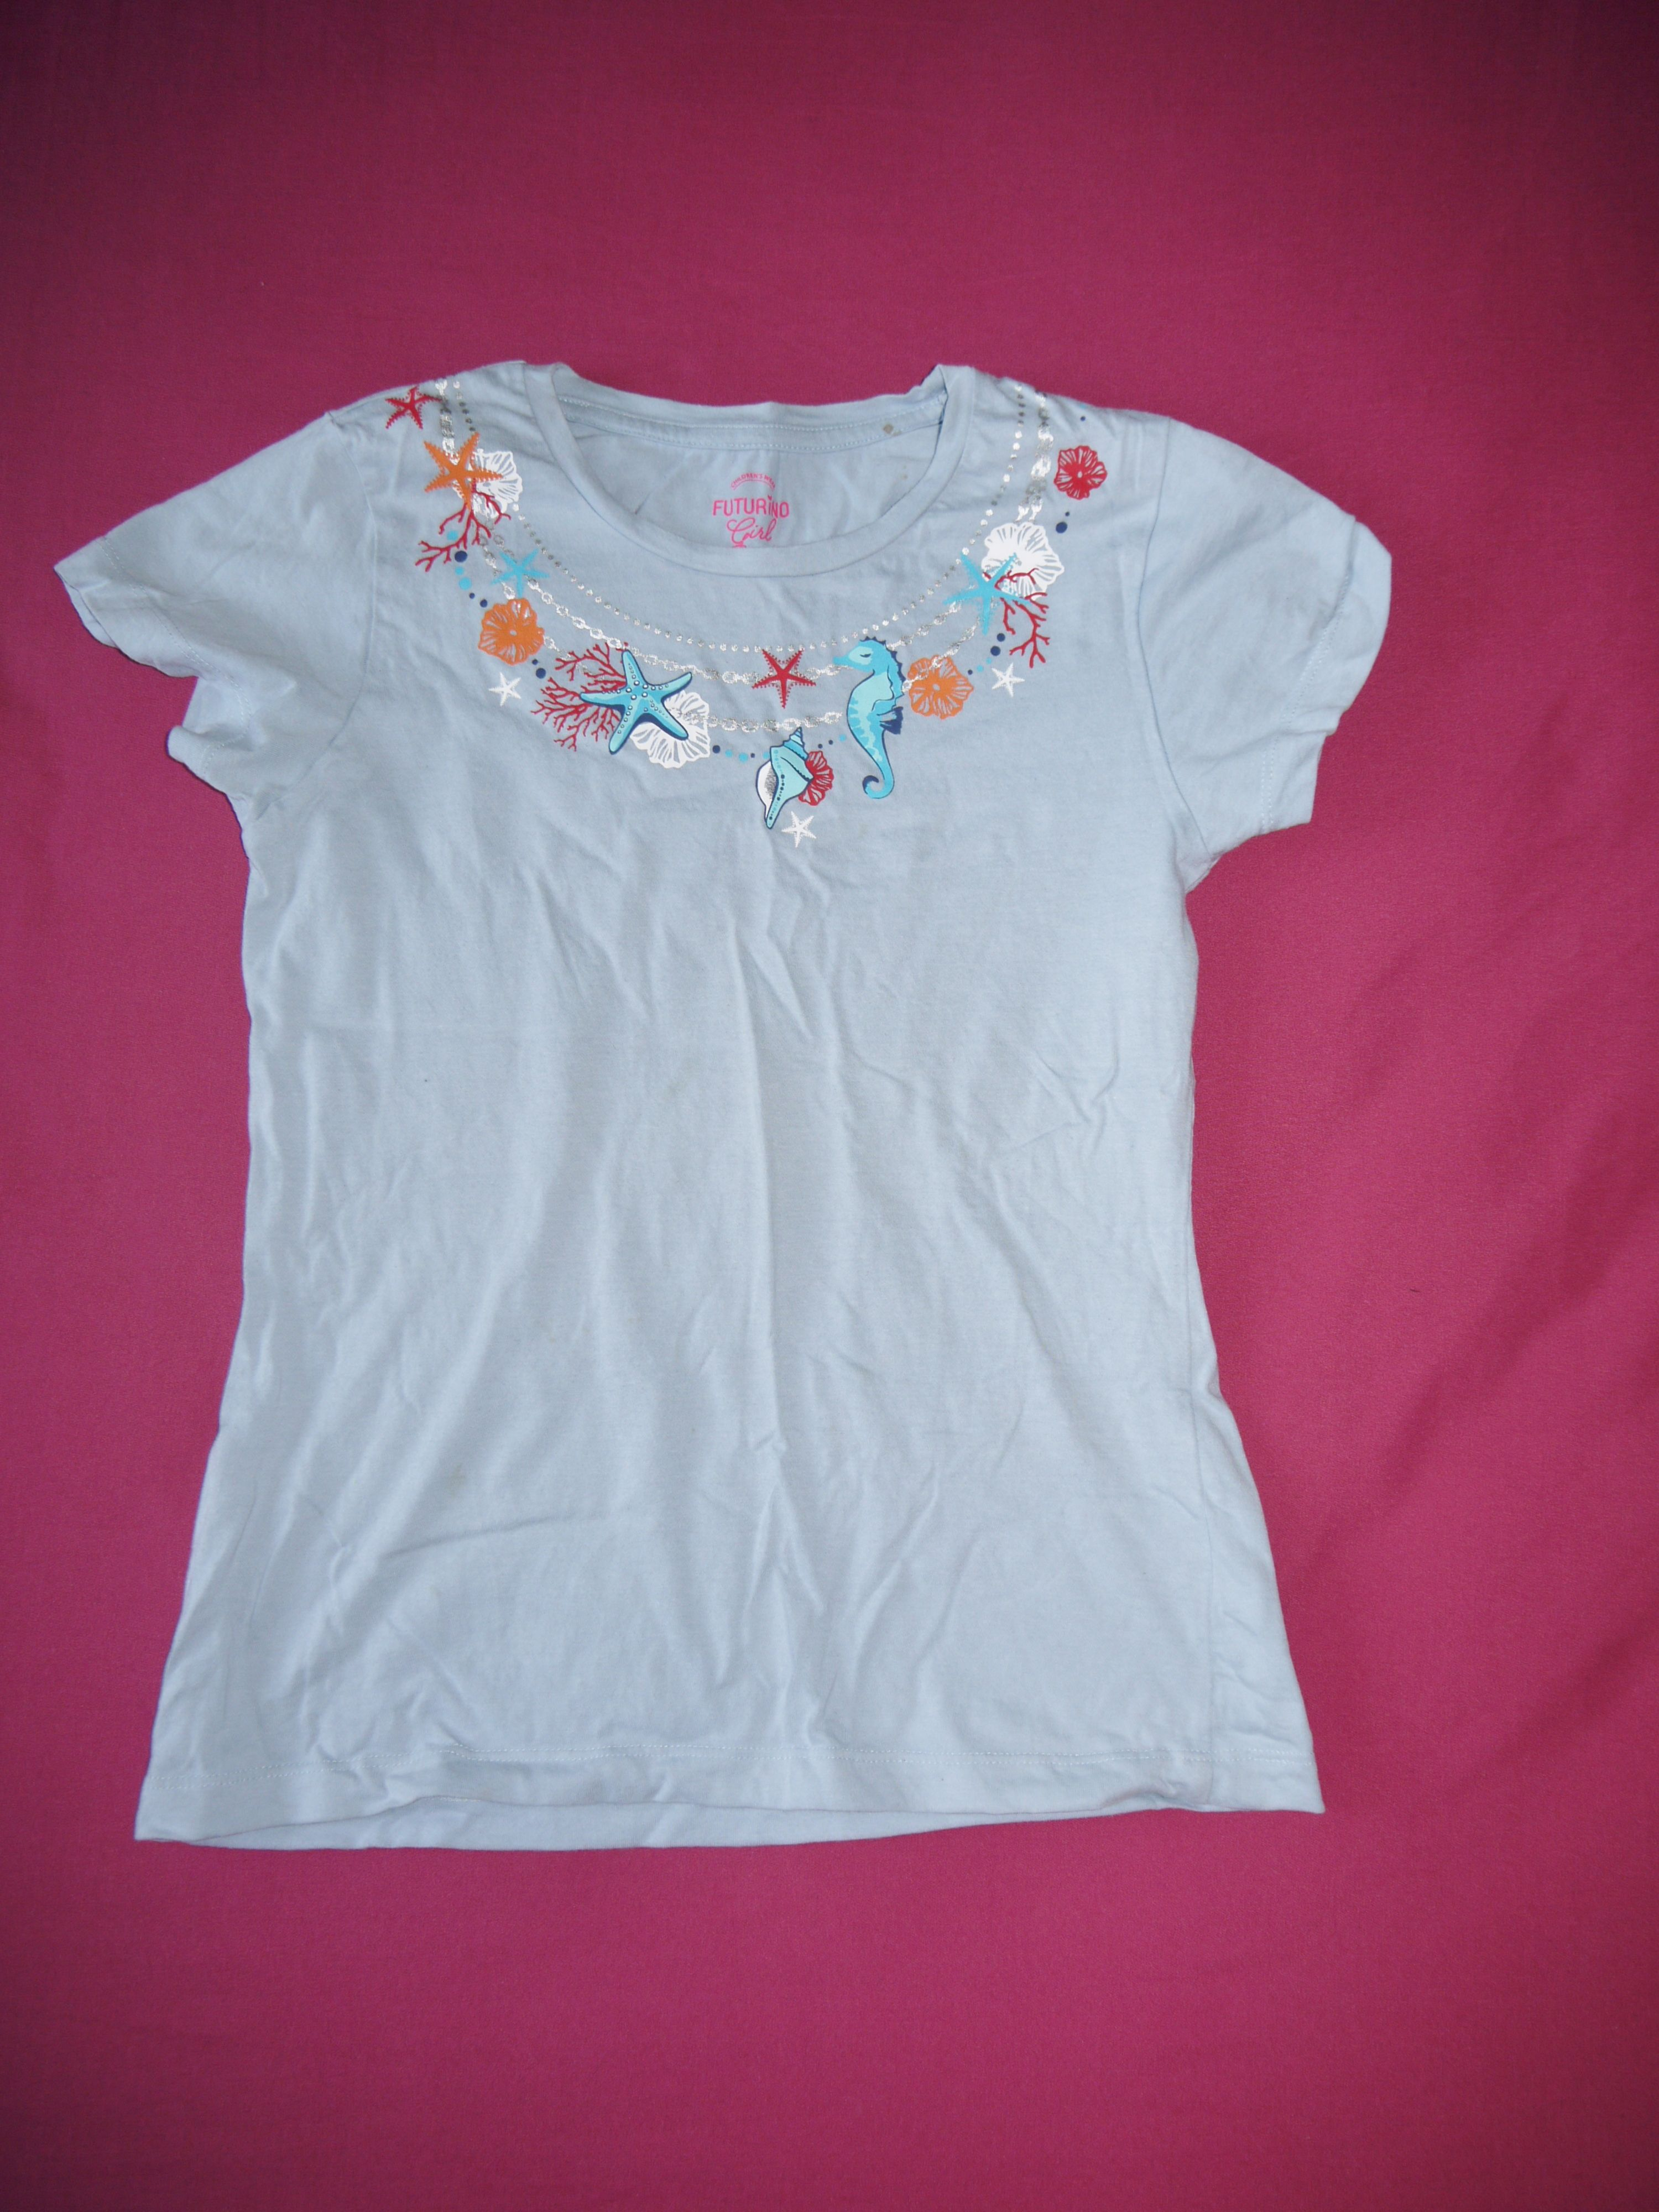clothes: (61, 357, 1378, 1871)
